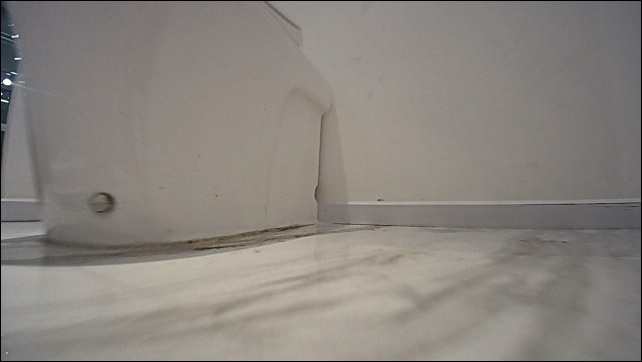toilet: (0, 0, 335, 255)
